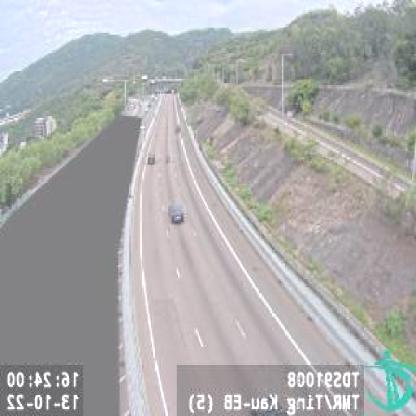Car: (168, 200, 184, 223), (146, 150, 156, 164)
